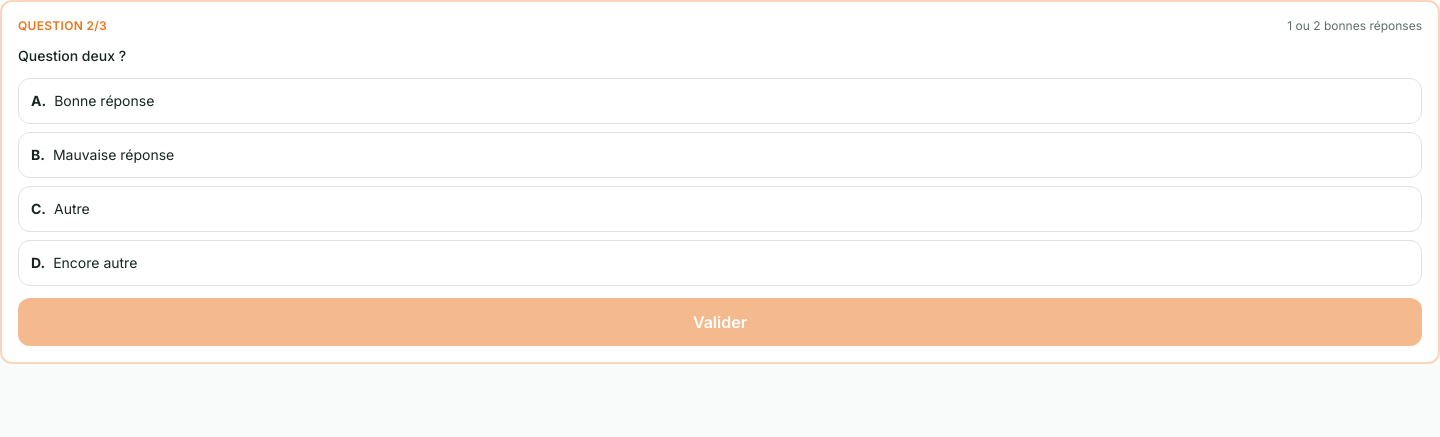
Test: FicheQuiz › déroule un mini-quiz complet et affiche le score
The width and height of the screenshot is (1440, 437).
Earlier steps of the test are not shown.
Click the button "A.Bonne réponse" at [104, 100], box left=18, top=78, right=1422, bottom=124
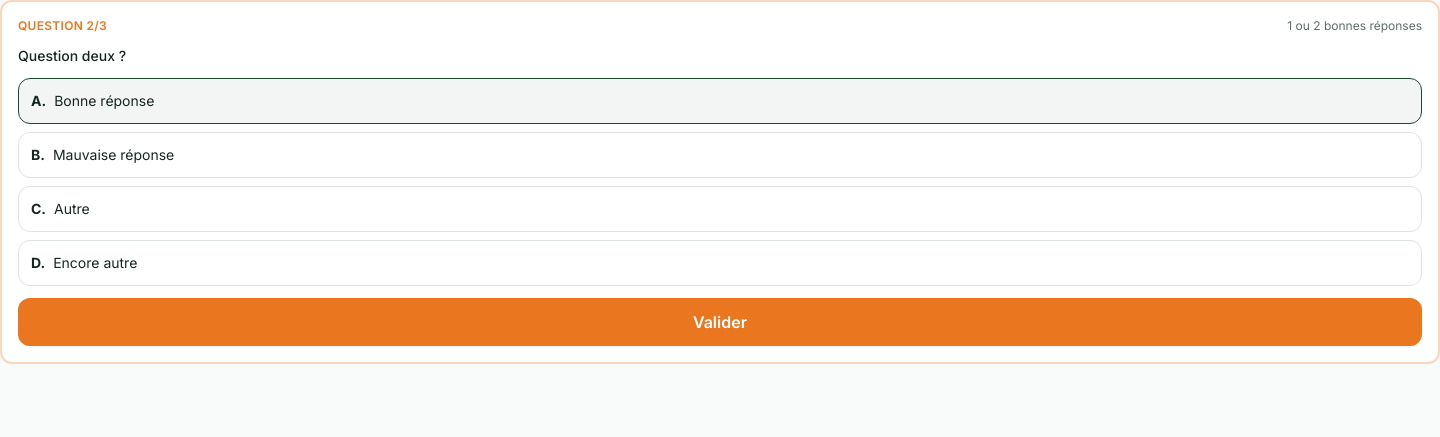
Click the button "Valider" at [720, 322], box left=18, top=298, right=1422, bottom=346
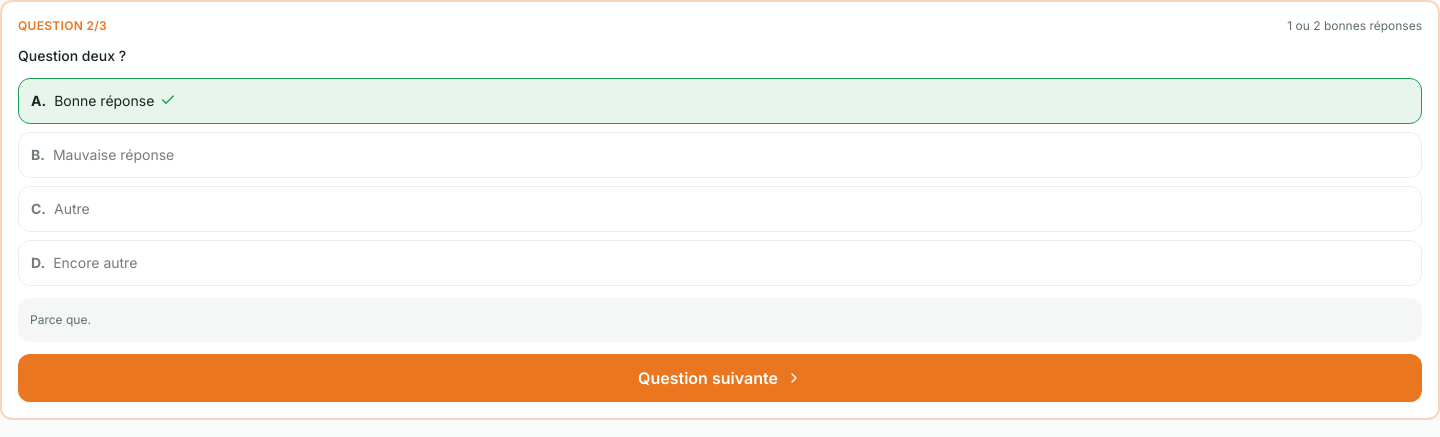
Click the button "Question suivante" at [720, 378], box left=18, top=354, right=1422, bottom=402
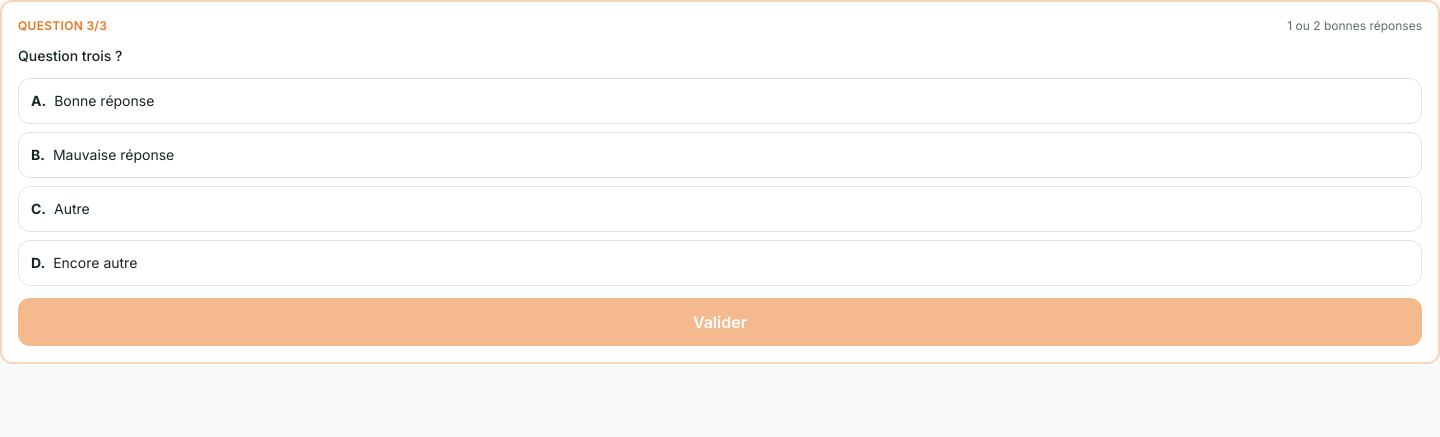
Click the button "A.Bonne réponse" at [104, 100], box left=18, top=78, right=1422, bottom=124
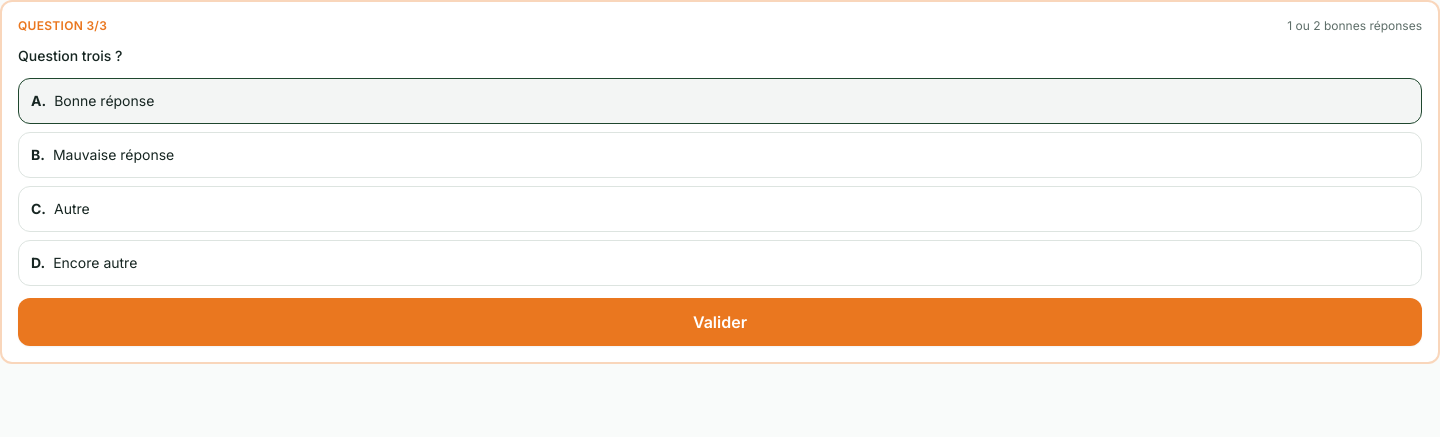
Click the button "Valider" at [720, 322], box left=18, top=298, right=1422, bottom=346
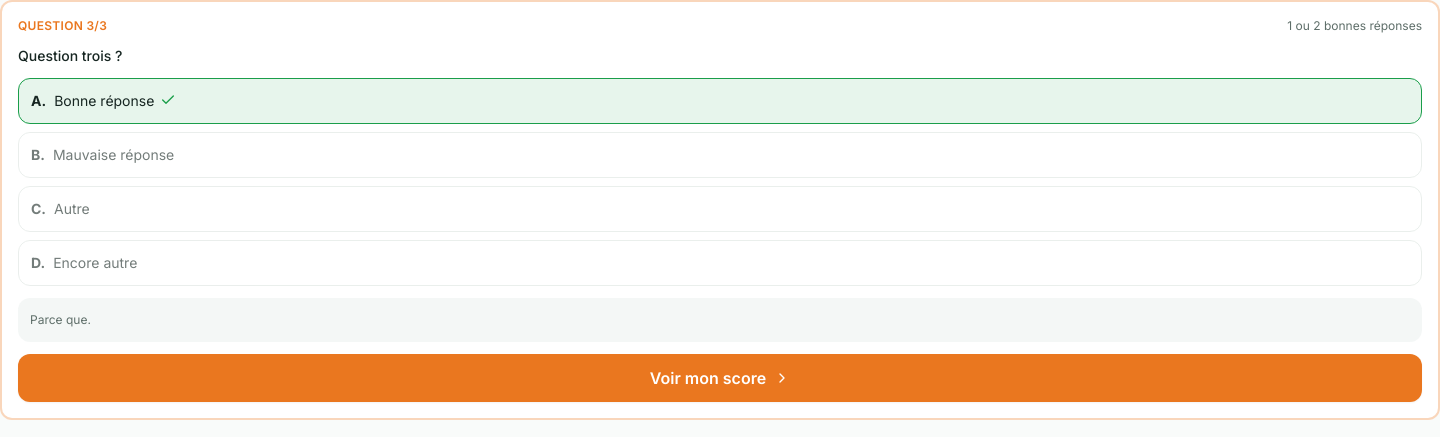
Click the button "Voir mon score" at [720, 378], box left=18, top=354, right=1422, bottom=402
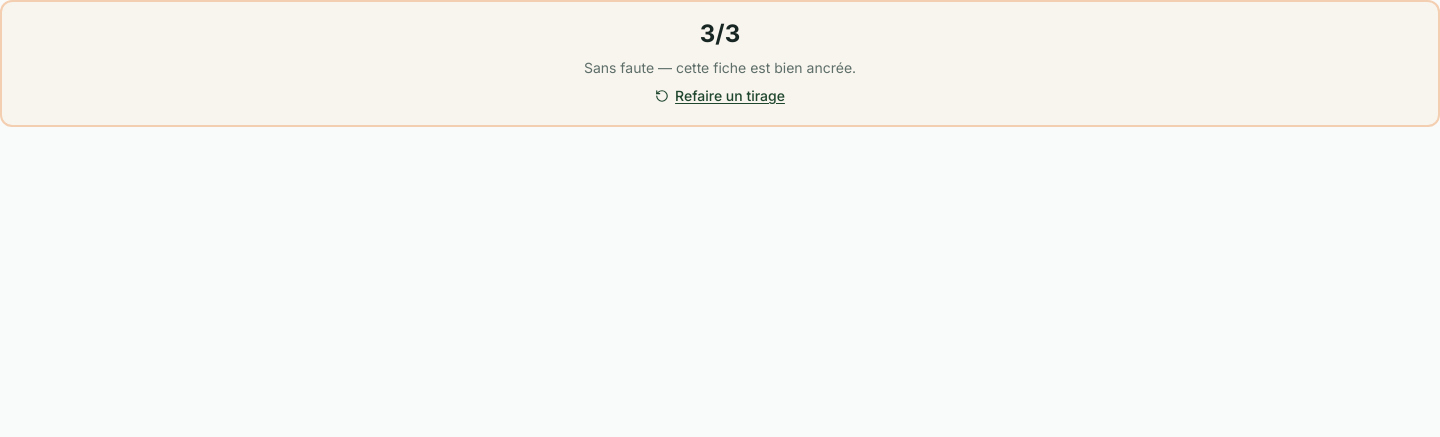
Expected: the text "3/3" is shown, left=700, top=19, right=740, bottom=48
Expected: the text "Sans faute — cette fiche est bien ancrée." is shown, left=584, top=59, right=856, bottom=76
